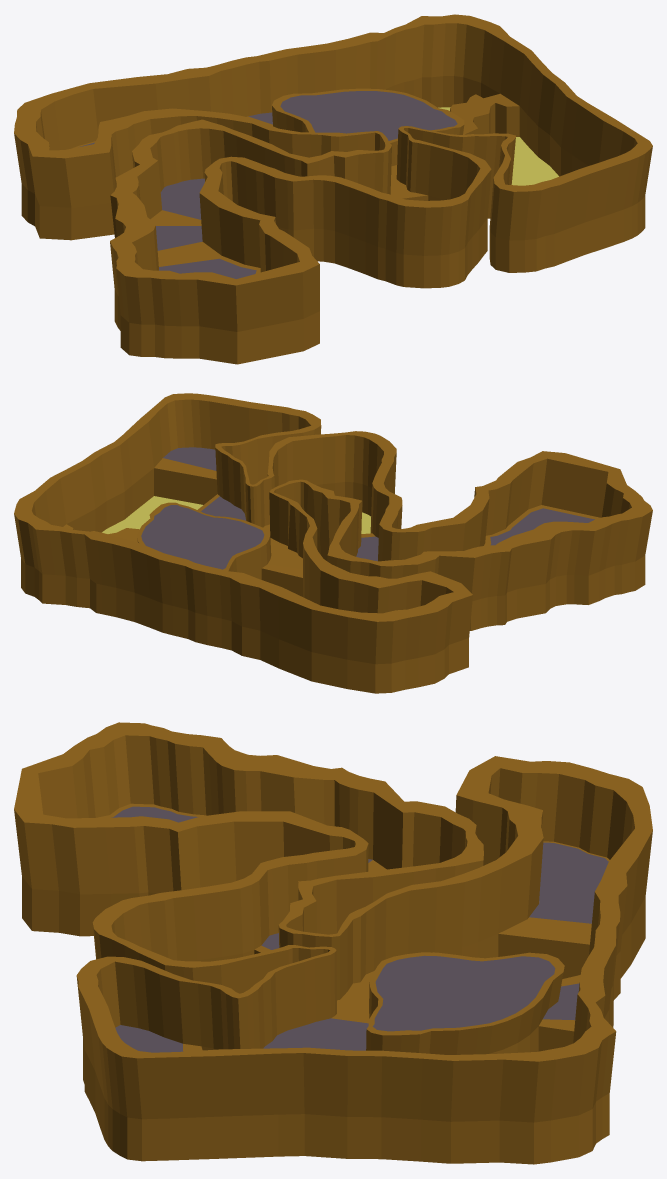
The model's file is Map 2.fbx.
3 renders of one model, top to bottom at view 1: azimuth 30°, elevation 25°; view 2: azimuth 150°, elevation 25°; view 3: azimuth 270°, elevation 25°, orthographic. The views are drawn at different scales.
Parts seen in each view (by area): view 1: Map; view 2: Map; view 3: Map.
Part boxes in pixels (<box>): Map: <box>14,14,652,364</box>; Map: <box>14,393,652,693</box>; Map: <box>14,722,652,1164</box>.
Size of the model in its own units: 22019 by 3225 by 17528.
